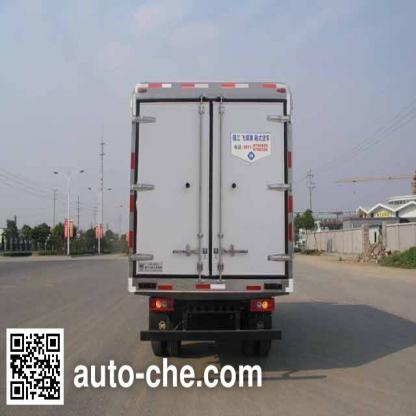normal-truck: (119, 71, 304, 334)
